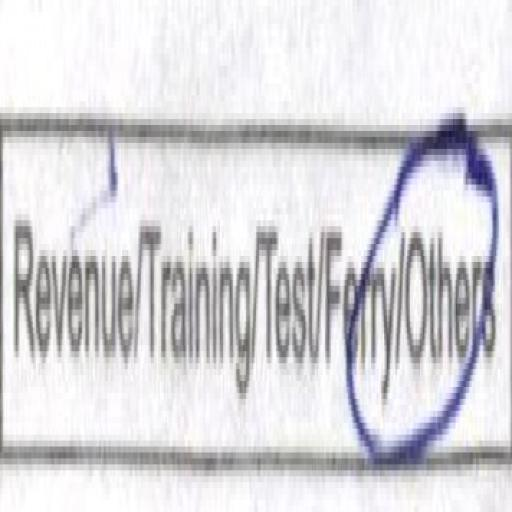check: (397, 96, 501, 474)
